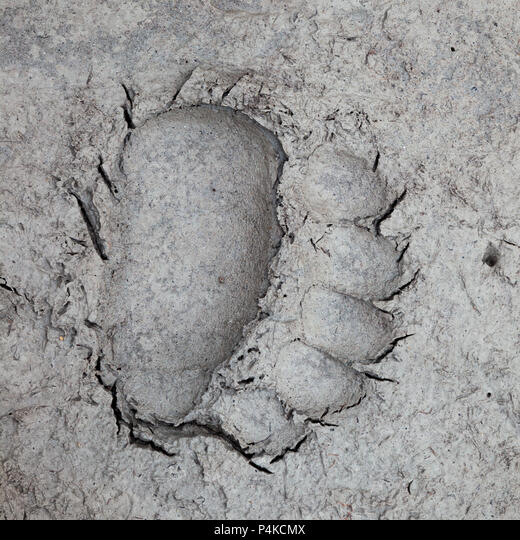bear: (52, 57, 420, 473)
